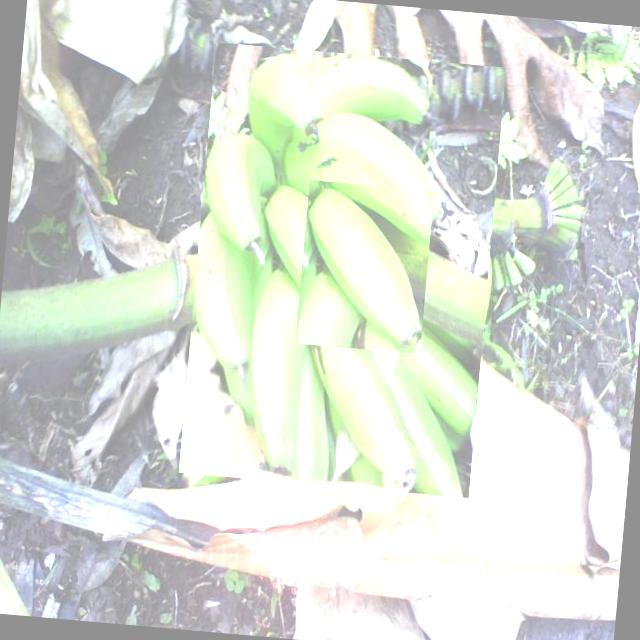Banana: (178, 41, 506, 498)
